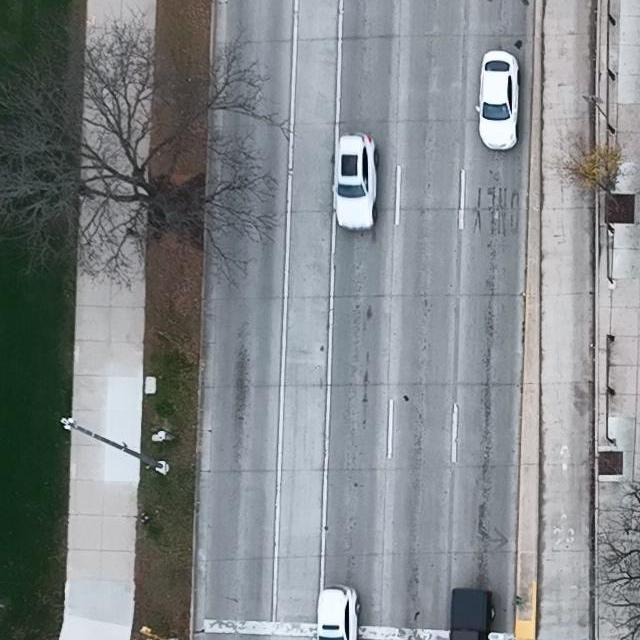car: (474, 49, 521, 153), (333, 131, 380, 234), (316, 584, 362, 640), (450, 587, 496, 640)
